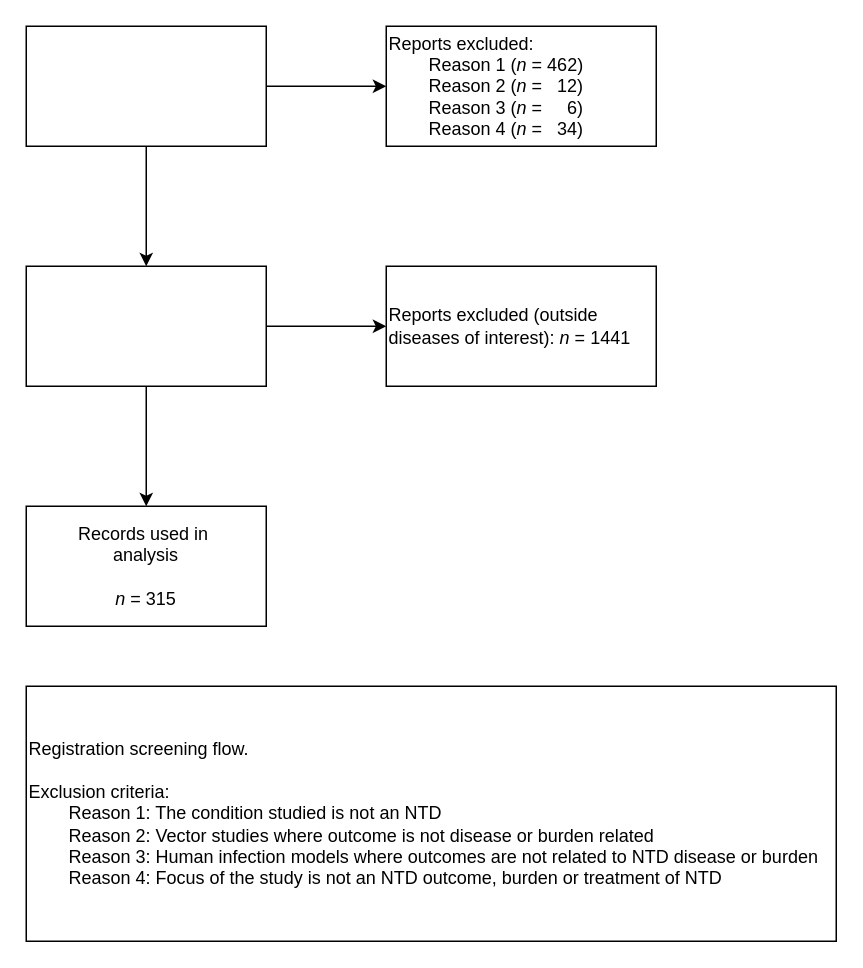
This 863x968 diagram has some shape labels left out. The shapes that lost their labels are listed below. From the top down, each one's centre as x and y in pixels, then its label:
the point at 145,85: Records identified and assessed for eligibility from ICTRP n = 2270
the point at 145,325: Records curated n = 1756
